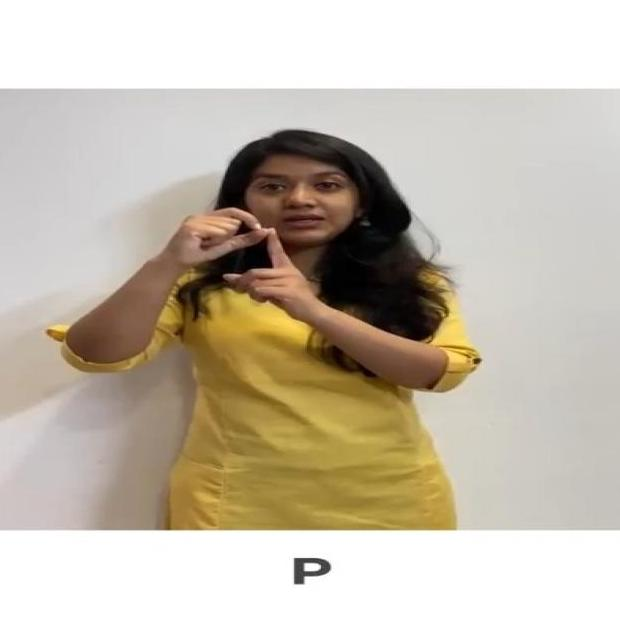O: (148, 204, 327, 327)
